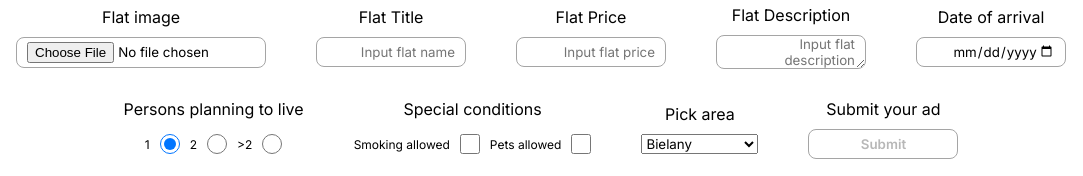
Form tests › Should enable submit button on first input
Step 1. Type "test value" into the field with test id "title" → (391, 52), box 316,37 -> 466,67
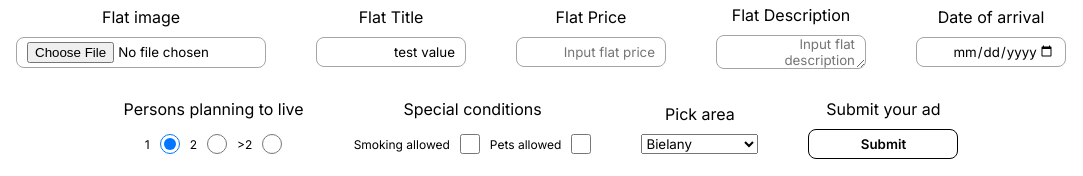
Result: the button with test id "submit" is enabled at 808,129 -> 958,159
